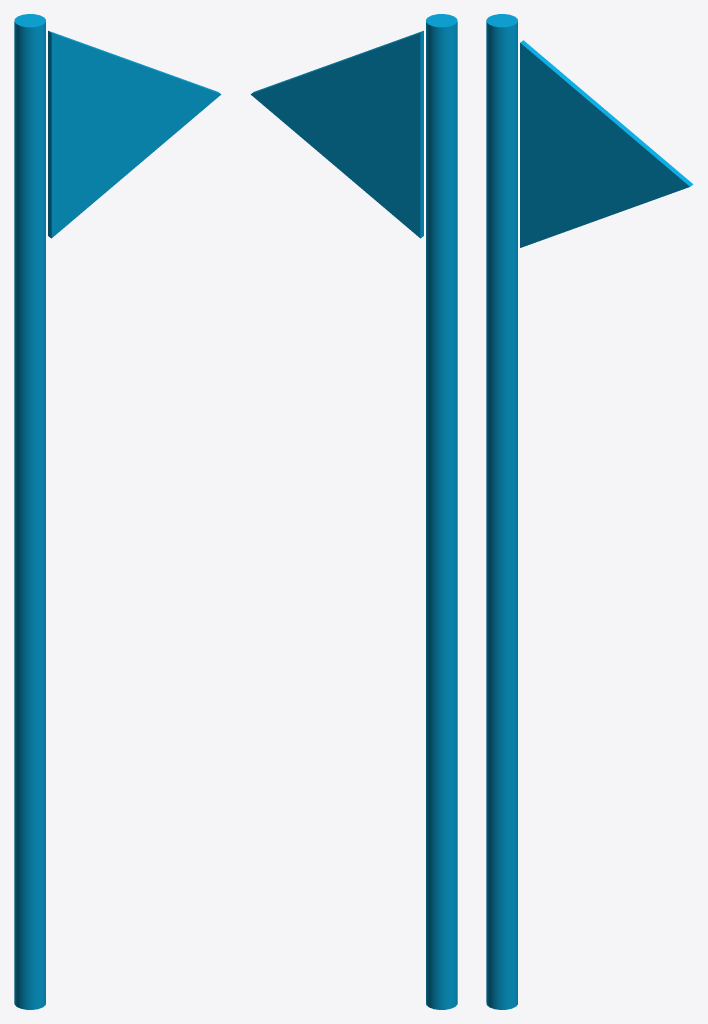
The model's file is flag_001 (1).fbx.
3 renders of one model, left to right at view 1: azimuth 30°, elevation 25°; view 2: azimuth 150°, elevation 25°; view 3: azimuth 330°, elevation 25°, orthographic.
Parts seen in each view (by area): view 1: flag_001; view 2: flag_001; view 3: flag_001.
Part boxes in pixels (box(x1,y1,x2,y2)): flag_001: box(14, 14, 221, 1009); flag_001: box(250, 14, 457, 1009); flag_001: box(486, 14, 693, 1009).
Bounding box in the file's own units: 274 × 1262 × 37.24.
